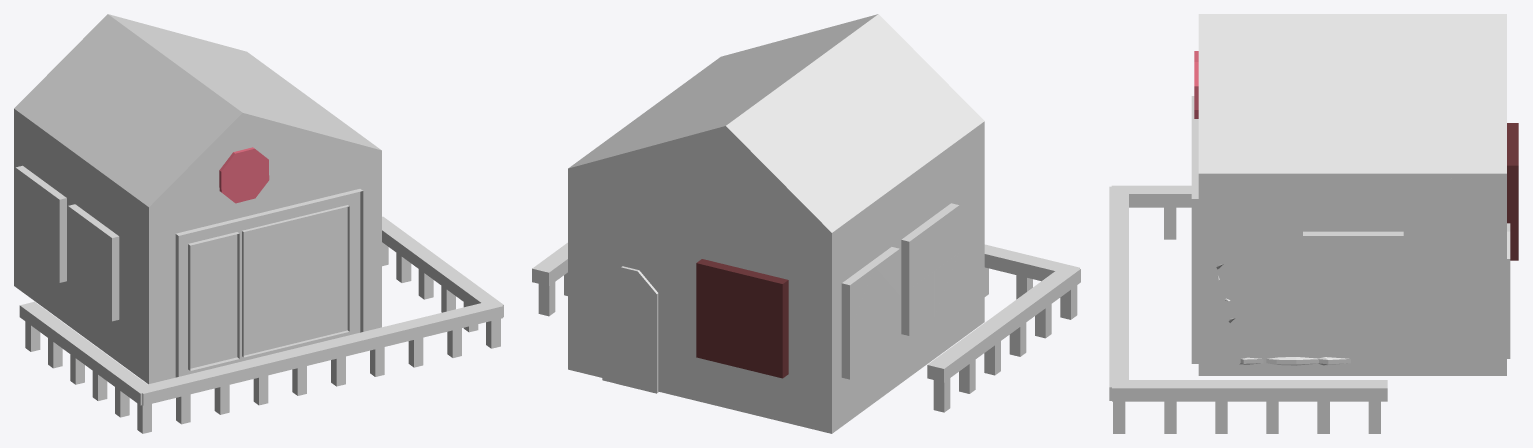
The model's file is CAFEINSIDE.fbx.
3 renders of one model, left to right at view 1: azimuth 30°, elevation 25°; view 2: azimuth 150°, elevation 25°; view 3: azimuth 270°, elevation 25°, orthographic. The views are drawn at different scales.
Visible parts, largest first — view 1: Cube.012, Cube.010, Cube.008, Cube.016, Cube.014, Cylinder.010; view 2: Cube.012, Cube.010, Cube.024, Cube.017, Cube.016, Cube.008; view 3: Cube.012, Cube.010, Cube.023, Cube.014, Cube.024, Plane.005, Cube.017.
Part boxes in pixels (bbox=[...]): Cube.012: bbox=[14, 14, 381, 384]; Cube.010: bbox=[19, 216, 503, 433]; Cube.008: bbox=[68, 204, 119, 321]; Cube.016: bbox=[15, 165, 66, 282]; Cube.014: bbox=[175, 189, 363, 377]; Cylinder.010: bbox=[219, 147, 269, 203]; Cube.012: bbox=[568, 14, 984, 433]; Cube.010: bbox=[532, 242, 1080, 412]; Cube.024: bbox=[696, 259, 788, 378]; Cube.017: bbox=[602, 266, 658, 393]; Cube.016: bbox=[841, 247, 899, 379]; Cube.008: bbox=[901, 203, 959, 335]; Cube.012: bbox=[1198, 14, 1506, 375]; Cube.010: bbox=[1109, 185, 1387, 433]; Cube.023: bbox=[1303, 231, 1403, 331]; Cube.014: bbox=[1191, 96, 1198, 363]; Cube.024: bbox=[1507, 123, 1518, 260]; Plane.005: bbox=[1239, 357, 1350, 365]; Cube.017: bbox=[1507, 223, 1510, 358].
Size of the model in its own units: 7010 by 4792 by 5985.
